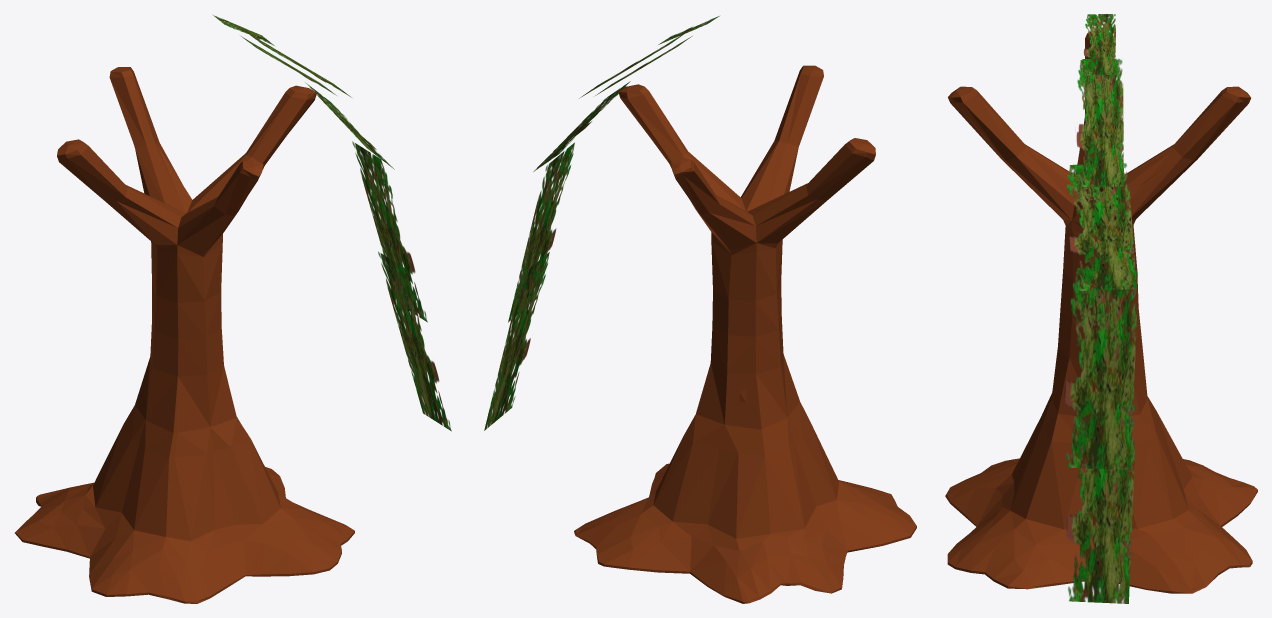
The model's file is willow tree.glb.
The picture shows the model from 3 angles, left to right: view 1: azimuth 30°, elevation 25°; view 2: azimuth 150°, elevation 25°; view 3: azimuth 270°, elevation 25°; orthographic projection. The views are drawn at different scales.
Visible parts, largest first — view 1: Mesh1.001, Plane.005, Plane.004; view 2: Mesh1.001, Plane.005, Plane.004, Plane.003; view 3: Mesh1.001, Plane.004, Plane.005, Plane.003, Plane, Plane.001, Plane.002.
Part boxes in pixels (left/top/right/bottom): Mesh1.001: left=15, top=67, right=354, bottom=603; Plane.005: left=378, top=251, right=451, bottom=431; Plane.004: left=352, top=141, right=427, bottom=322; Mesh1.001: left=574, top=65, right=916, bottom=603; Plane.005: left=484, top=252, right=549, bottom=430; Plane.004: left=508, top=142, right=574, bottom=322; Plane.003: left=533, top=81, right=630, bottom=171; Mesh1.001: left=945, top=30, right=1257, bottom=593; Plane.004: left=1065, top=267, right=1137, bottom=470; Plane.005: left=1066, top=402, right=1135, bottom=603; Plane.003: left=1067, top=163, right=1136, bottom=290; Plane: left=1076, top=59, right=1123, bottom=186; Plane.001: left=1084, top=14, right=1115, bottom=74; Plane.002: left=1078, top=58, right=1121, bottom=173.
Bounding box in the file's own units: 1.4 × 1.79 × 0.955.
Materials: 2 (1 with a texture image).
